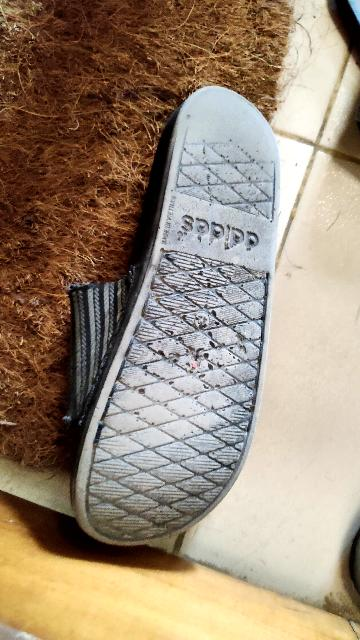sandal: (61, 59, 297, 567)
